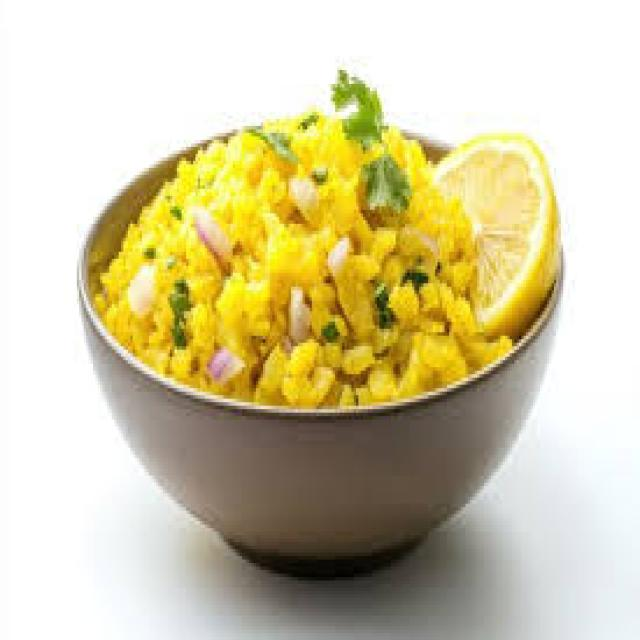POHA: (91, 108, 507, 402)
